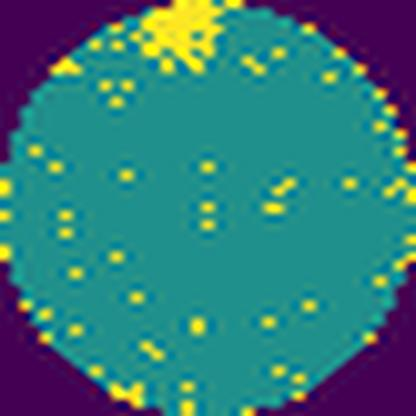Edge-Loc: (133, 0, 238, 75)
